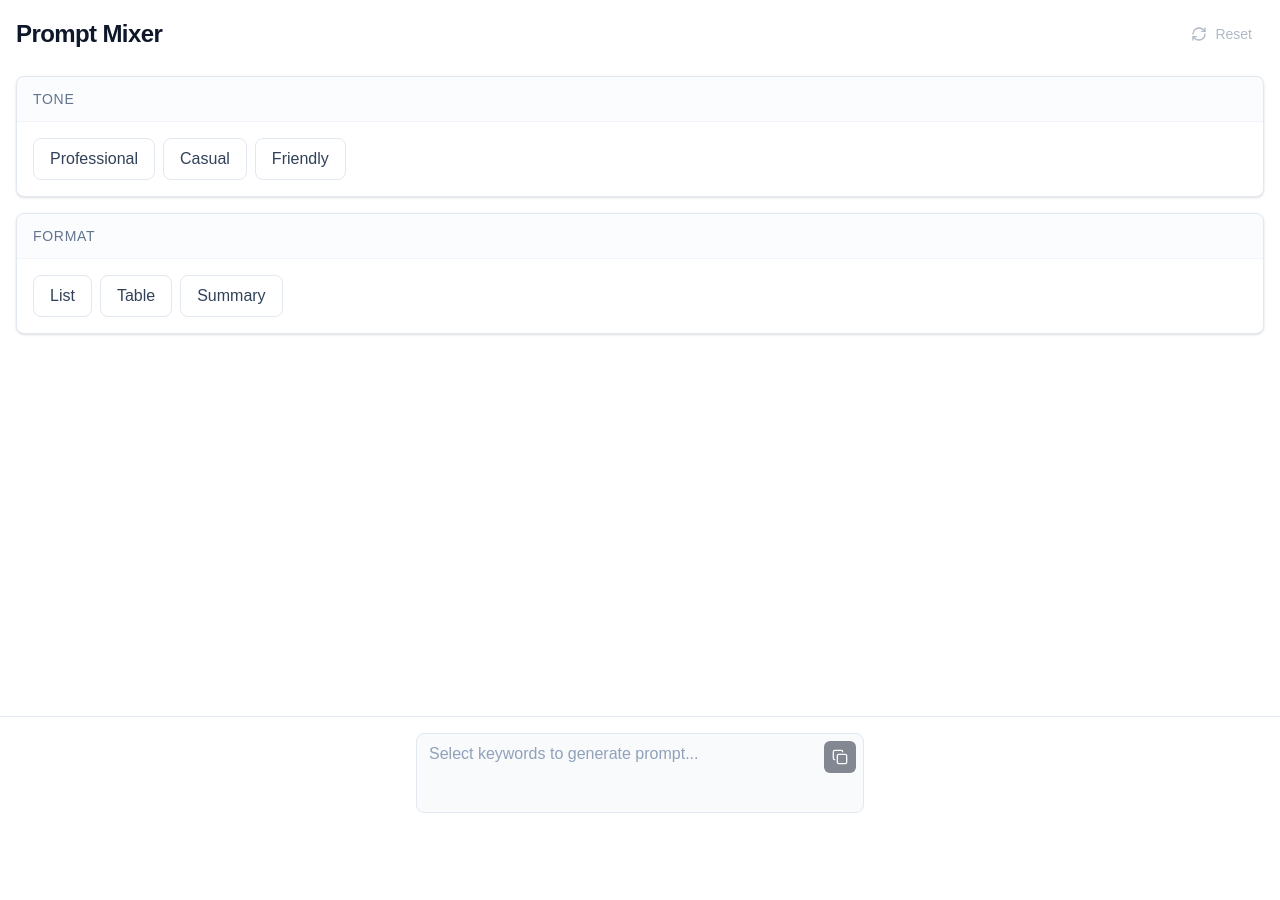
Scenario: Home Page › generates prompt when keywords are selected
Check: the heading "Tone" is shown, box [33,91,74,107]
# Click keyword
Click the button "Professional".
click(94, 159)  # box [33,138,155,180]
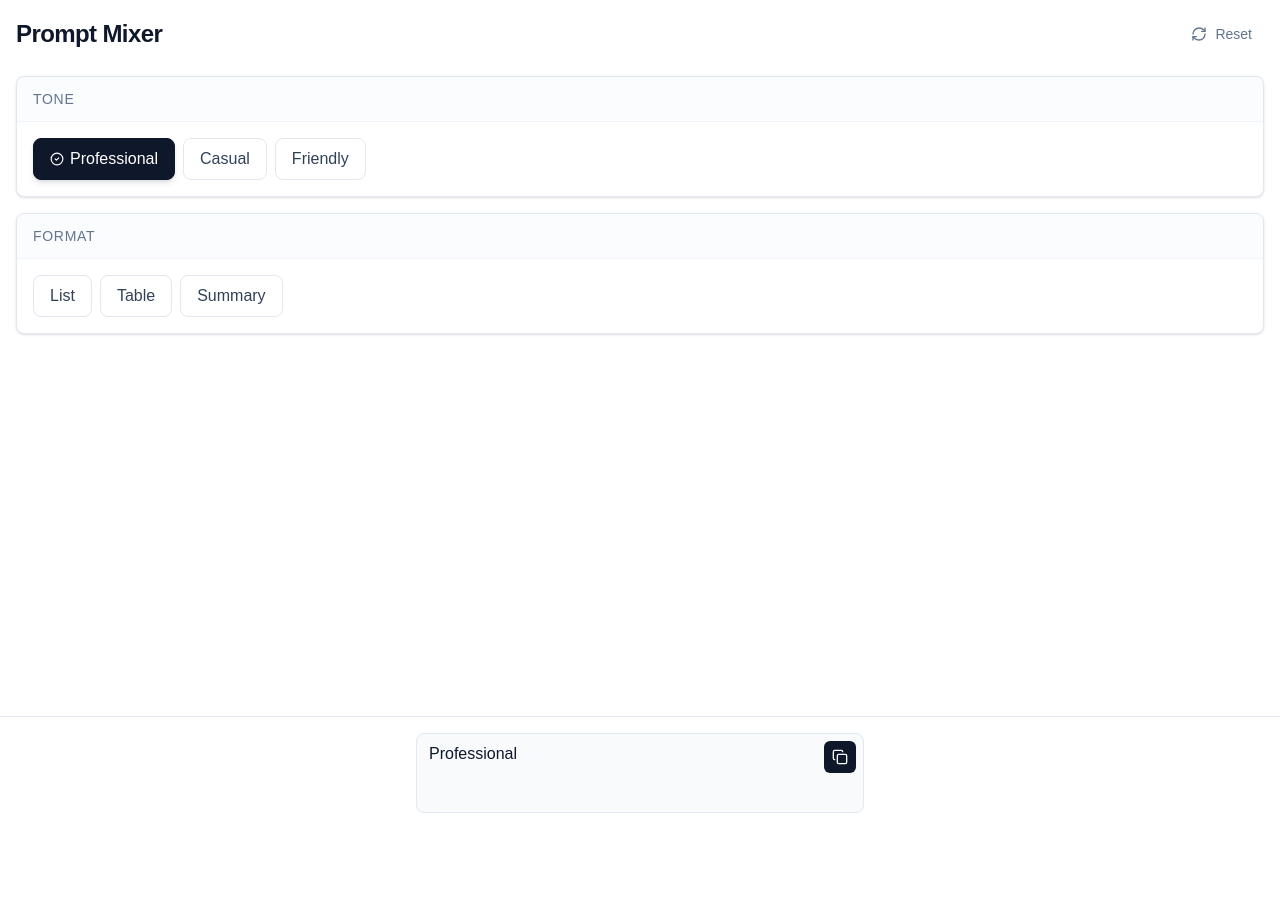
Check: the text box with placeholder "Select keywords to generate prompt..." holds "Professional", box [416,733,864,813]
